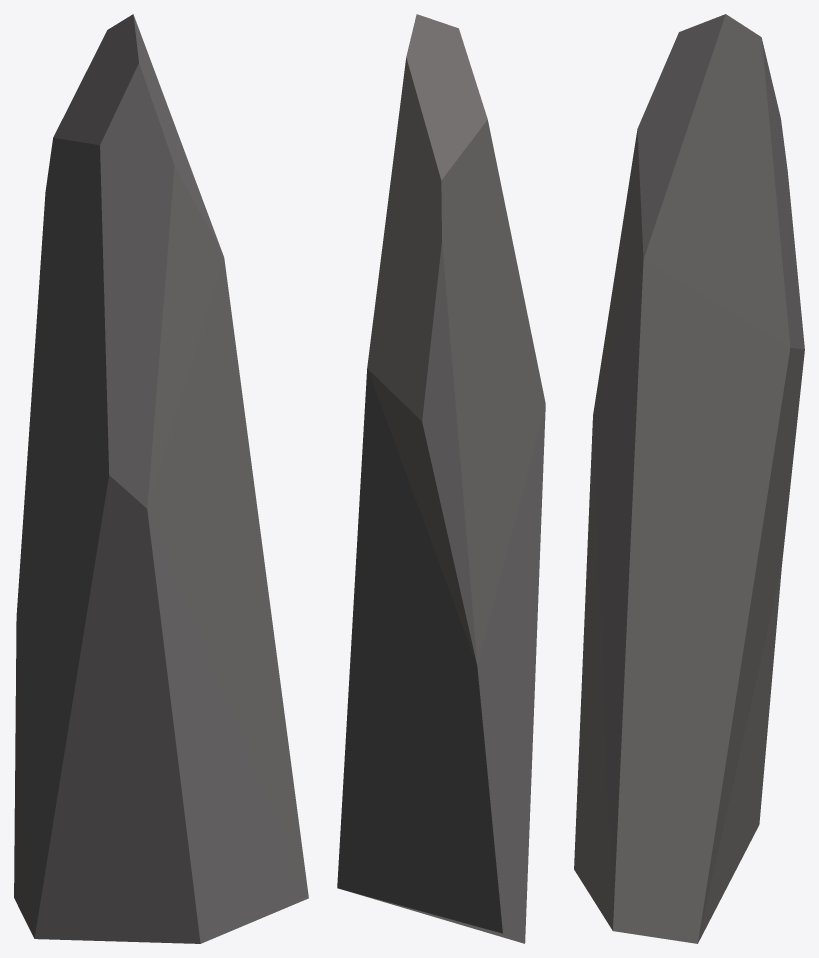
Rendered from Rock_Sharp_m_01.fbx.
The picture shows the model from 3 angles, left to right: view 1: azimuth 30°, elevation 25°; view 2: azimuth 150°, elevation 25°; view 3: azimuth 270°, elevation 25°; orthographic projection. The views are drawn at different scales.
Visible parts, largest first — view 1: Rock_Sharp_m_01; view 2: Rock_Sharp_m_01; view 3: Rock_Sharp_m_01.
Boxes of the visible parts, x1,y1,x2,y2 form: Rock_Sharp_m_01: (14,14,308,943); Rock_Sharp_m_01: (337,14,545,943); Rock_Sharp_m_01: (574,14,804,943).
Size of the model in its own units: 0.5084 by 1.97 by 0.4653.
